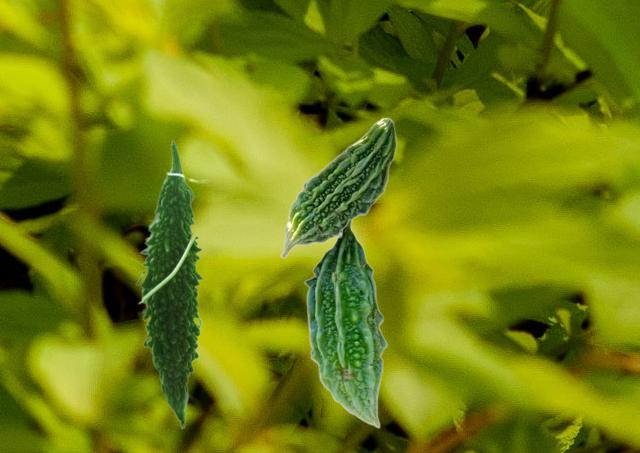ampalaya: (134, 139, 212, 429), (303, 218, 388, 429), (279, 117, 397, 259)
